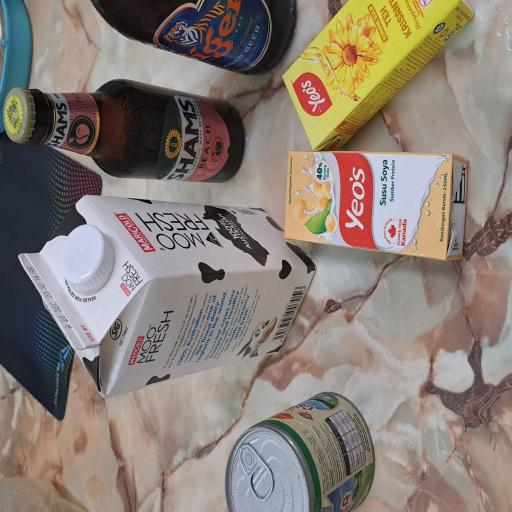can: (0, 299, 91, 502)
drink carton: (84, 22, 237, 422), (272, 374, 384, 512), (189, 377, 272, 512)
glass bottle: (249, 4, 325, 328), (327, 116, 384, 398)
plastic bottle cap: (166, 79, 216, 151)
pop tab: (8, 318, 51, 366)
